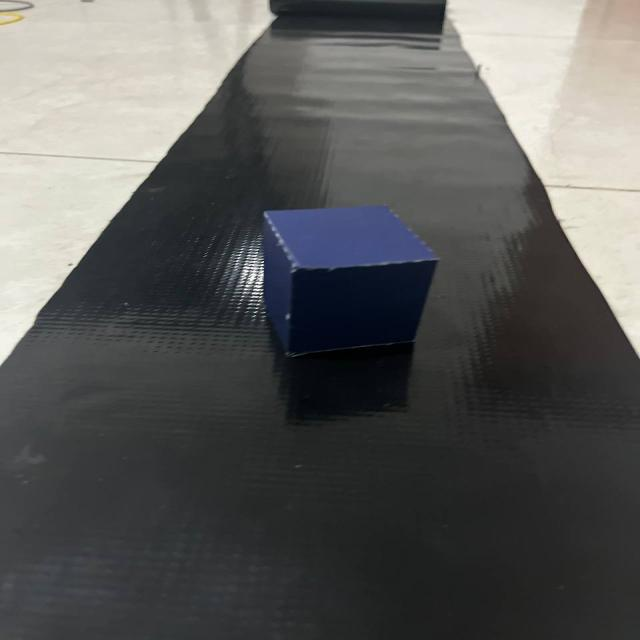Azul: (218, 191, 445, 373)
